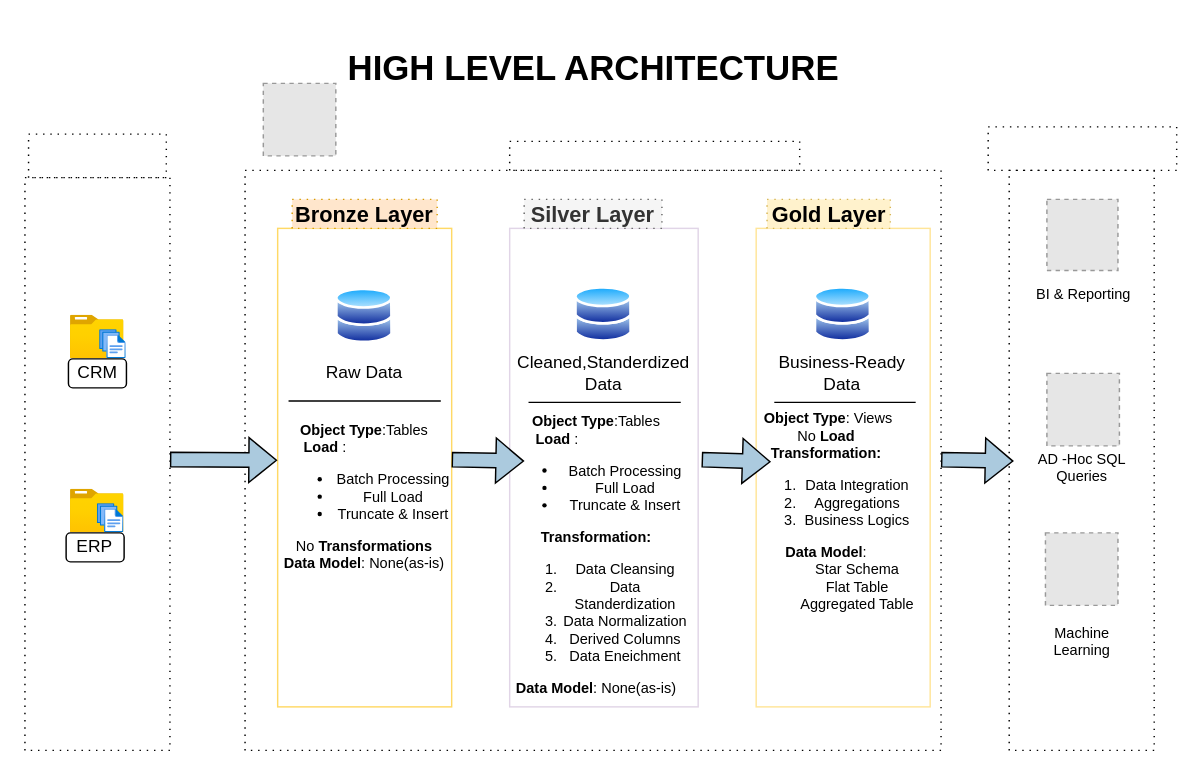
The diagram is 1204 pixels wide and 776 high, and some of its shapes have lost their labels. Grey dashed boxes stand in for pictures. Each missing label, with the centre of its shape:
"Consumers" belongs at pixel 1082 147.
"Data Warehouse" belongs at pixel 654 155.
"Sources" belongs at pixel 96 155.
